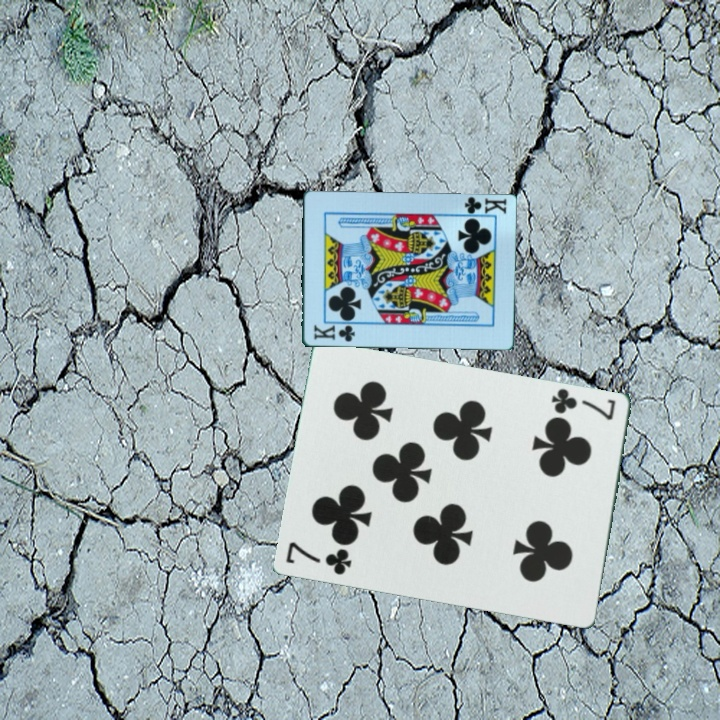7c: (548, 384, 619, 423), (283, 540, 355, 577)
Kc: (456, 193, 509, 219), (310, 322, 357, 345)
